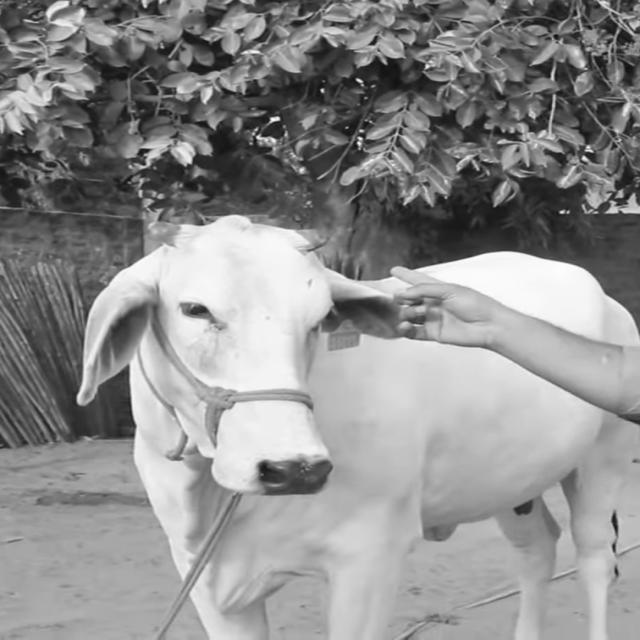Cow: (74, 212, 639, 639)
